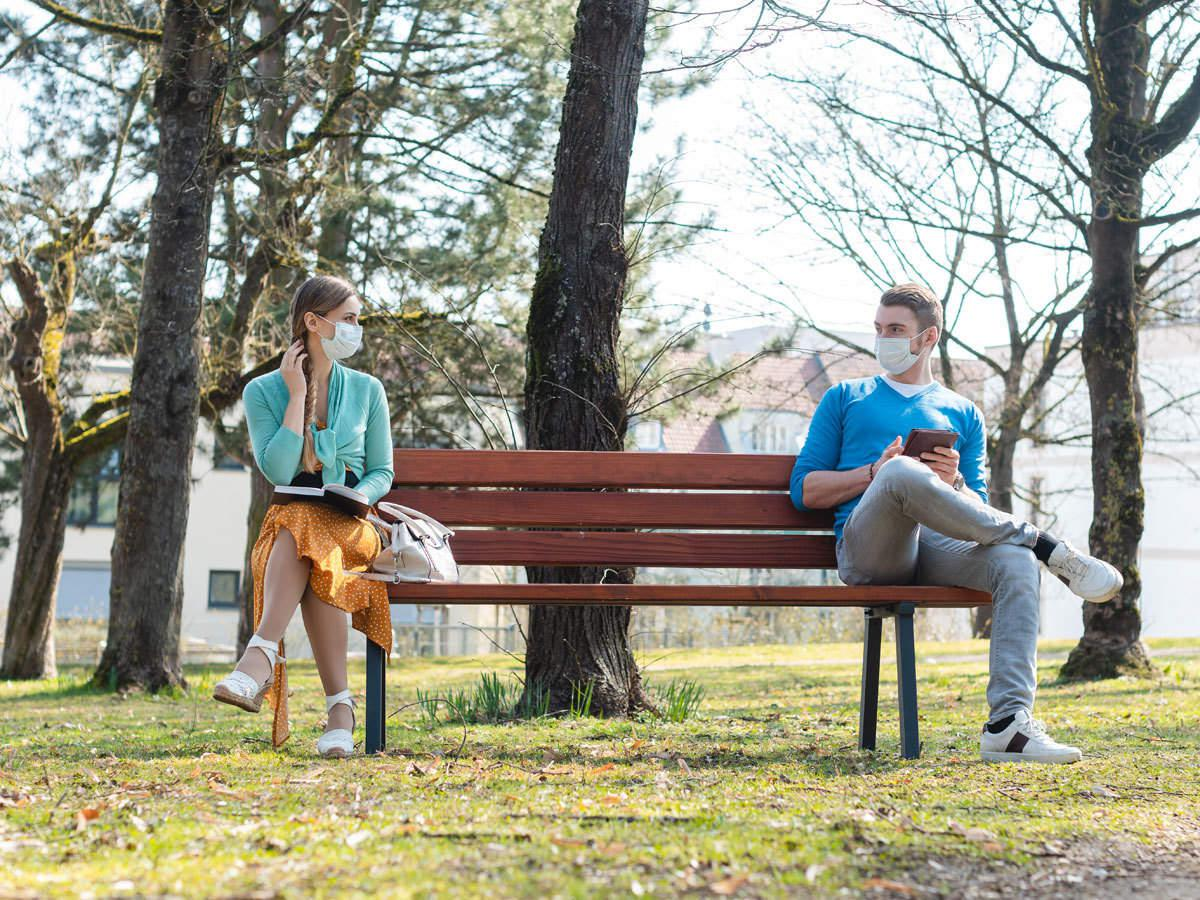with_mask: (864, 281, 944, 383), (284, 279, 372, 366)
